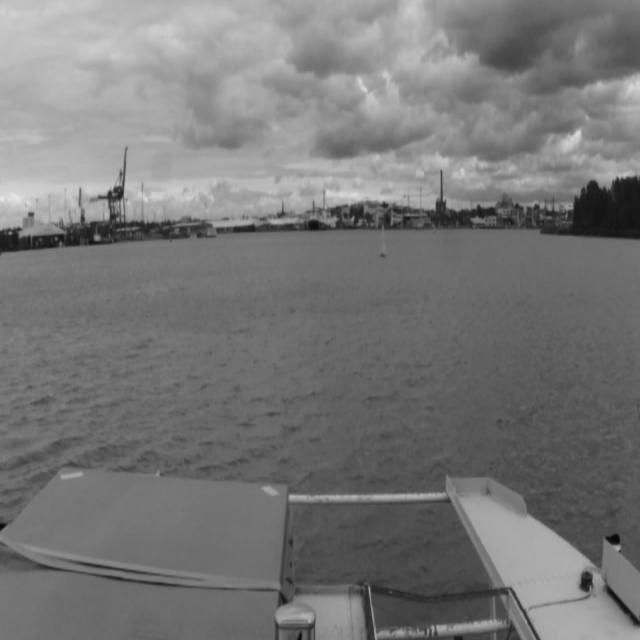buoy: (381, 226, 385, 258), (431, 215, 437, 236)
ship: (306, 191, 320, 233)
